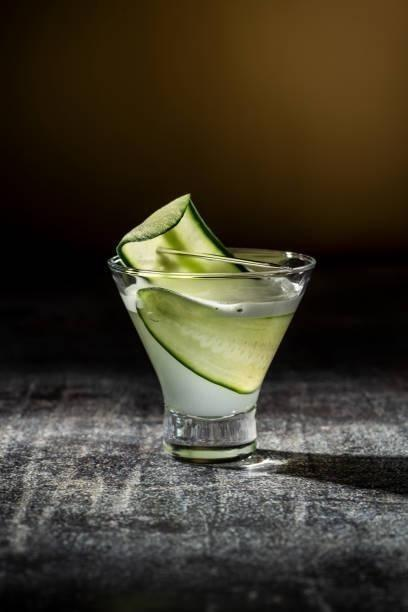glass-normal: (106, 234, 317, 467)
